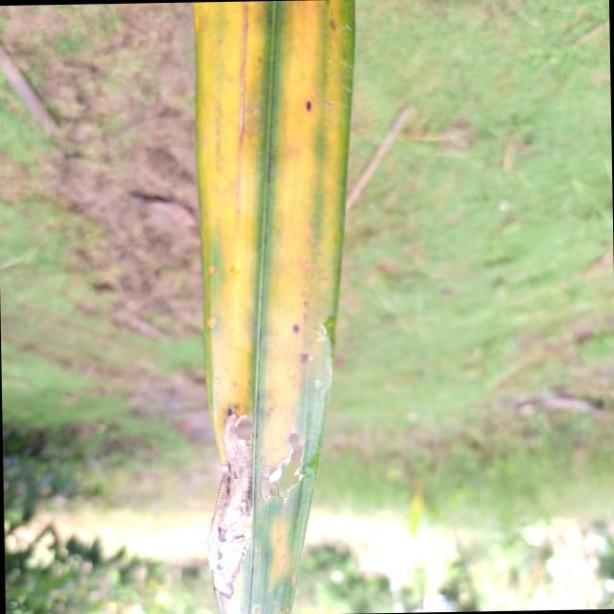Megnesium: (195, 0, 357, 614)
